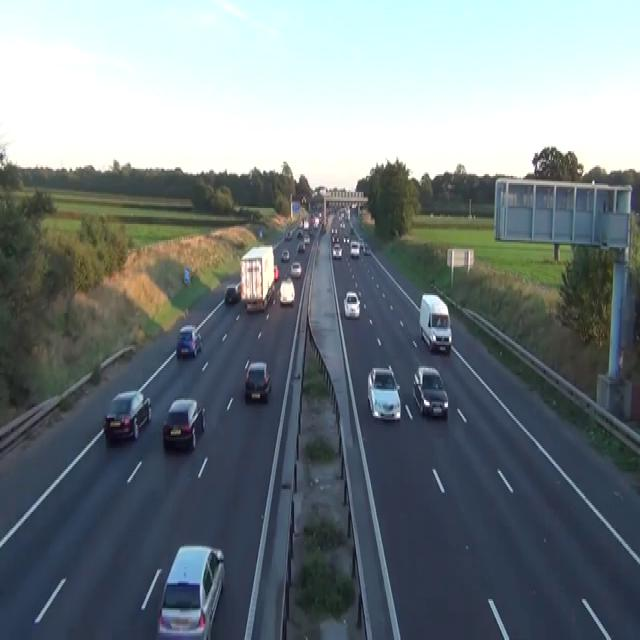Car: (156, 544, 224, 638), (104, 389, 151, 441), (162, 396, 206, 450), (367, 364, 401, 422), (412, 364, 448, 418), (244, 359, 271, 402), (176, 324, 202, 359), (279, 276, 295, 306), (343, 290, 360, 318), (224, 283, 239, 304), (290, 262, 301, 278), (350, 240, 359, 258), (331, 244, 342, 258), (183, 266, 190, 284), (441, 182, 455, 190), (280, 249, 289, 261), (235, 281, 241, 299), (273, 265, 279, 281), (284, 229, 292, 240), (297, 242, 305, 252), (363, 244, 370, 254), (303, 233, 310, 243), (359, 238, 365, 249), (446, 182, 454, 190), (343, 234, 350, 243), (332, 234, 339, 243), (313, 217, 319, 227), (303, 219, 309, 229), (296, 230, 303, 238), (321, 222, 326, 233), (331, 228, 337, 236), (301, 196, 306, 204), (340, 220, 345, 228), (259, 228, 262, 238), (351, 203, 357, 208), (350, 224, 353, 233)
Truck: (239, 244, 275, 311), (419, 292, 452, 352)
